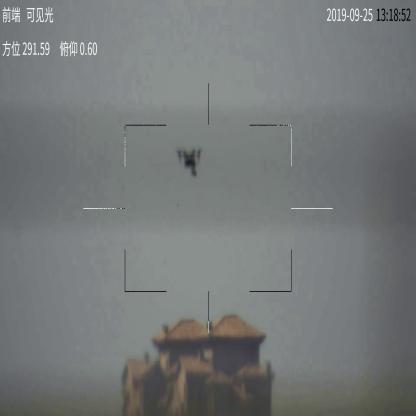uav: (176, 144, 203, 178)
